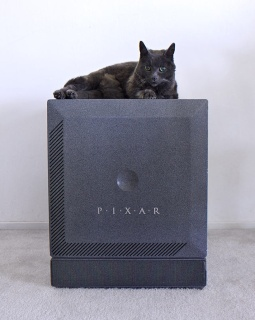Cat: (52, 40, 178, 98)
